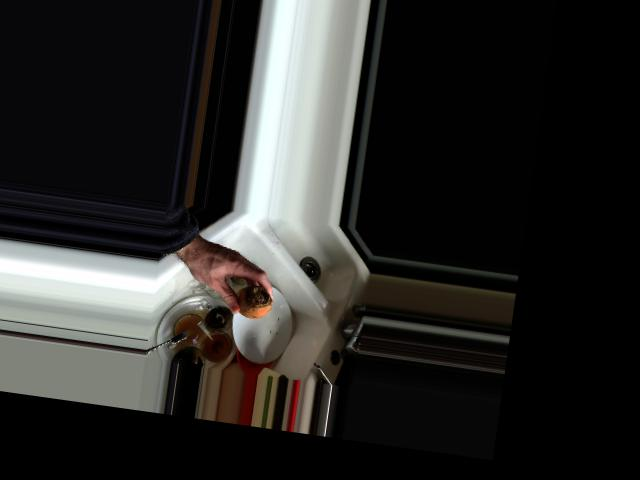sweet_potato: (226, 280, 276, 322)
